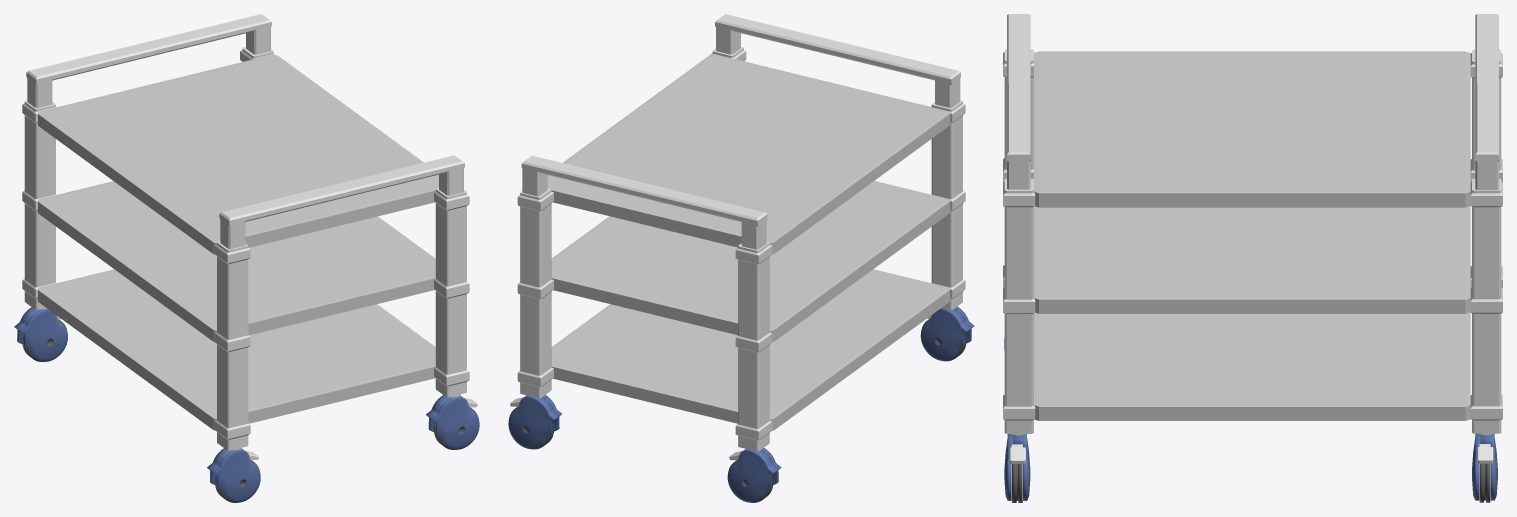
Rendered from shortshelfmetal.fbx.
The picture shows the model from 3 angles, left to right: view 1: azimuth 30°, elevation 25°; view 2: azimuth 150°, elevation 25°; view 3: azimuth 270°, elevation 25°; orthographic projection. The views are drawn at different scales.
Parts seen in each view (by area): view 1: Cube.002, Cube.001, Cube.000, Cube.004, Cube.003, Cube.005, Cube.011, Cube.010, Cylinder.030, Cylinder.001, Cylinder.004; view 2: Cube.002, Cube.001, Cube.000, Cube.006, Cube.005, Cube.004, Cube.011, Cube.010, Cylinder.004, Cylinder.007, Cylinder.001; view 3: Cube.002, Cube.001, Cube.000, Cube.006, Cube.003, Cube.011, Cube.010, Cylinder.007, Cylinder.030, Cube.005, Cube.004.
Boxes of the visible parts, left/top/right/bottom form: Cube.002: left=38, top=54, right=438, bottom=254; Cube.001: left=38, top=269, right=435, bottom=430; Cube.000: left=38, top=181, right=435, bottom=341; Cube.004: left=214, top=241, right=250, bottom=450; Cube.003: left=434, top=187, right=469, bottom=397; Cube.005: left=22, top=100, right=56, bottom=309; Cube.011: left=26, top=14, right=271, bottom=108; Cube.010: left=219, top=155, right=464, bottom=249; Cylinder.030: left=426, top=395, right=479, bottom=449; Cylinder.001: left=207, top=448, right=260, bottom=502; Cylinder.004: left=14, top=307, right=67, bottom=361; Cube.002: left=547, top=54, right=949, bottom=254; Cube.001: left=551, top=269, right=949, bottom=430; Cube.000: left=551, top=181, right=949, bottom=342; Cube.006: left=517, top=188, right=553, bottom=398; Cube.005: left=735, top=241, right=771, bottom=451; Cube.004: left=931, top=100, right=965, bottom=309; Cube.011: left=521, top=155, right=767, bottom=249; Cube.010: left=715, top=14, right=960, bottom=107; Cylinder.004: left=727, top=448, right=781, bottom=502; Cylinder.007: left=508, top=395, right=561, bottom=449; Cylinder.001: left=920, top=306, right=974, bottom=361; Cube.002: left=1034, top=51, right=1470, bottom=207; Cube.001: left=1034, top=312, right=1470, bottom=420; Cube.000: left=1034, top=206, right=1470, bottom=313; Cube.006: left=1470, top=178, right=1502, bottom=433; Cube.003: left=1003, top=178, right=1035, bottom=433; Cube.011: left=1475, top=14, right=1498, bottom=189; Cube.010: left=1007, top=14, right=1030, bottom=189; Cylinder.007: left=1472, top=433, right=1497, bottom=502; Cylinder.030: left=1004, top=434, right=1030, bottom=502; Cube.005: left=1470, top=49, right=1502, bottom=288; Cube.004: left=1003, top=49, right=1034, bottom=288.
Bounding box in the file's own units: 3330 × 3450 × 4463.
